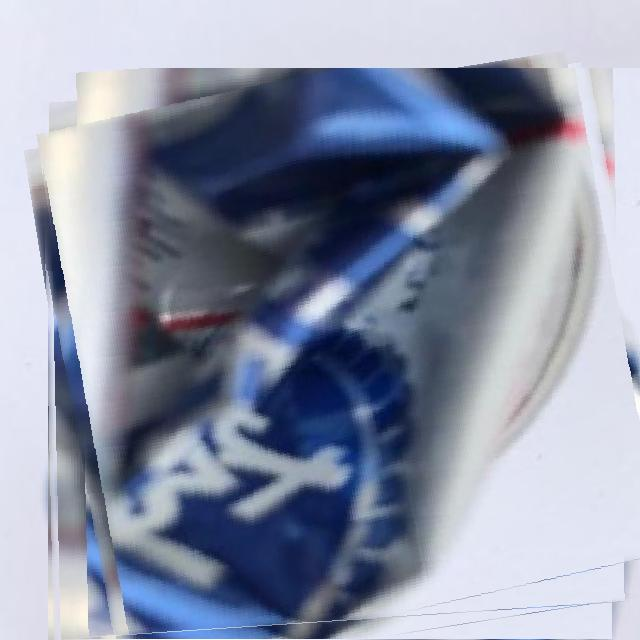recyclable: (41, 68, 640, 640)
